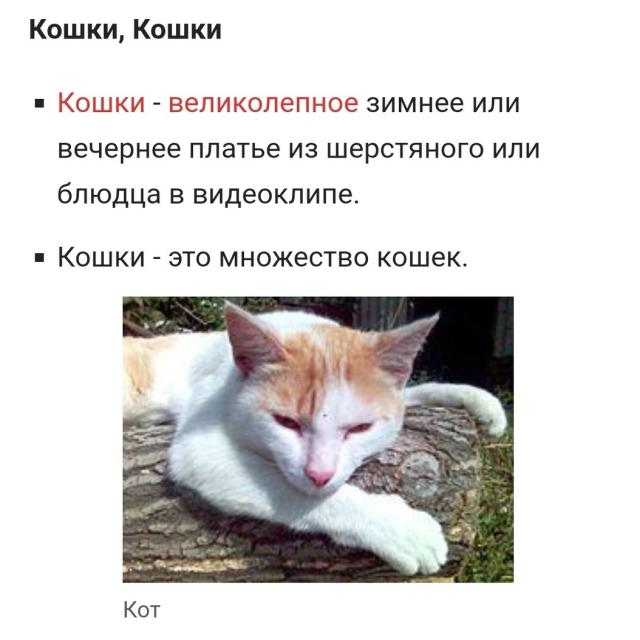cat: (123, 296, 510, 574)
